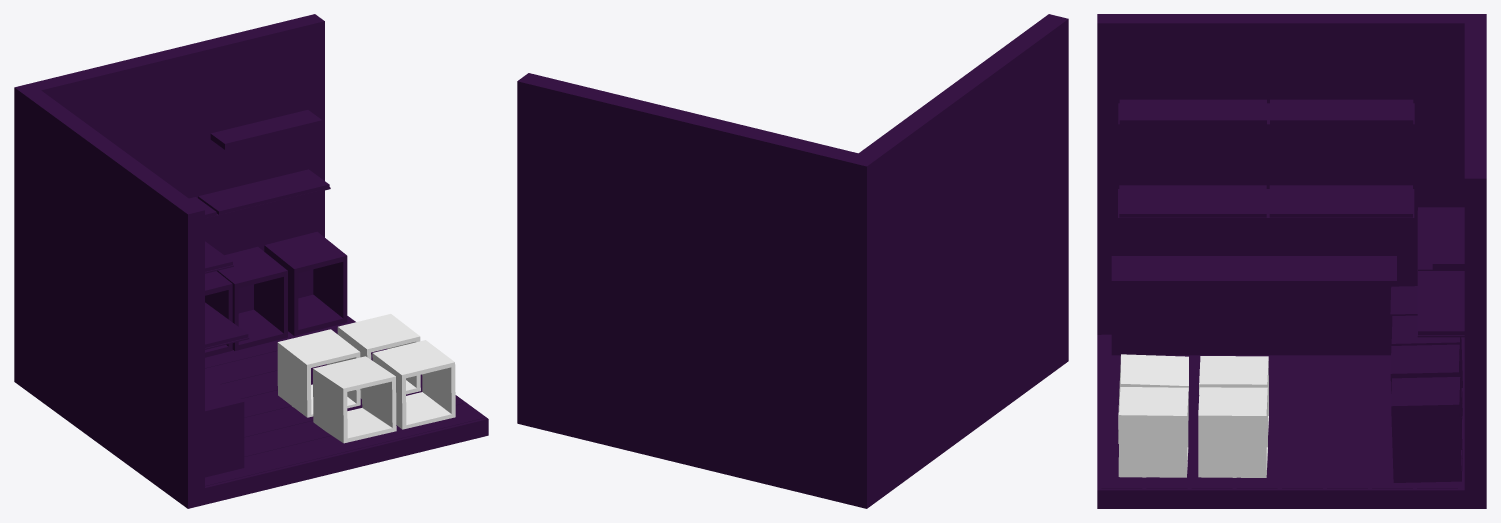
The model's file is room.glb.
3 renders of one model, left to right at view 1: azimuth 30°, elevation 25°; view 2: azimuth 150°, elevation 25°; view 3: azimuth 270°, elevation 25°, orthographic. The views are drawn at different scales.
Parts seen in each view (by area): view 1: walls, floor, table4, cube1, table2, cube2, table3, triangle, etagere11, table1, etagere1, cube4 (+2 smaller); view 2: walls; view 3: walls, triangle, floor, etagere22, etagere2, cube1, table2, table1, etagere11, cube2, table4, table3 (+3 smaller).
Boxes of the visible parts, x1,y1,x2,y2 form: walls: (14, 14, 488, 508); floor: (205, 318, 483, 486); table4: (313, 356, 396, 443); cube1: (264, 231, 347, 335); table2: (372, 340, 455, 429); cube2: (217, 246, 287, 350); table3: (277, 329, 360, 417); triangle: (205, 373, 244, 477); etagere11: (189, 169, 330, 219); table1: (337, 314, 420, 398); etagere1: (210, 110, 322, 149); cube4: (205, 271, 232, 357); walls: (517, 14, 1068, 508); walls: (1097, 14, 1486, 508); triangle: (1111, 256, 1396, 355); floor: (1101, 334, 1457, 488); etagere22: (1118, 185, 1414, 219); etagere2: (1118, 99, 1414, 125); cube1: (1391, 377, 1462, 482); table2: (1118, 387, 1188, 477); table1: (1198, 387, 1267, 477); etagere11: (1417, 207, 1464, 337); cube2: (1390, 344, 1461, 427); table4: (1118, 354, 1188, 443); table3: (1199, 356, 1268, 434).
Bounding box in the file's own units: 11.41 × 10.68 × 11.41.
